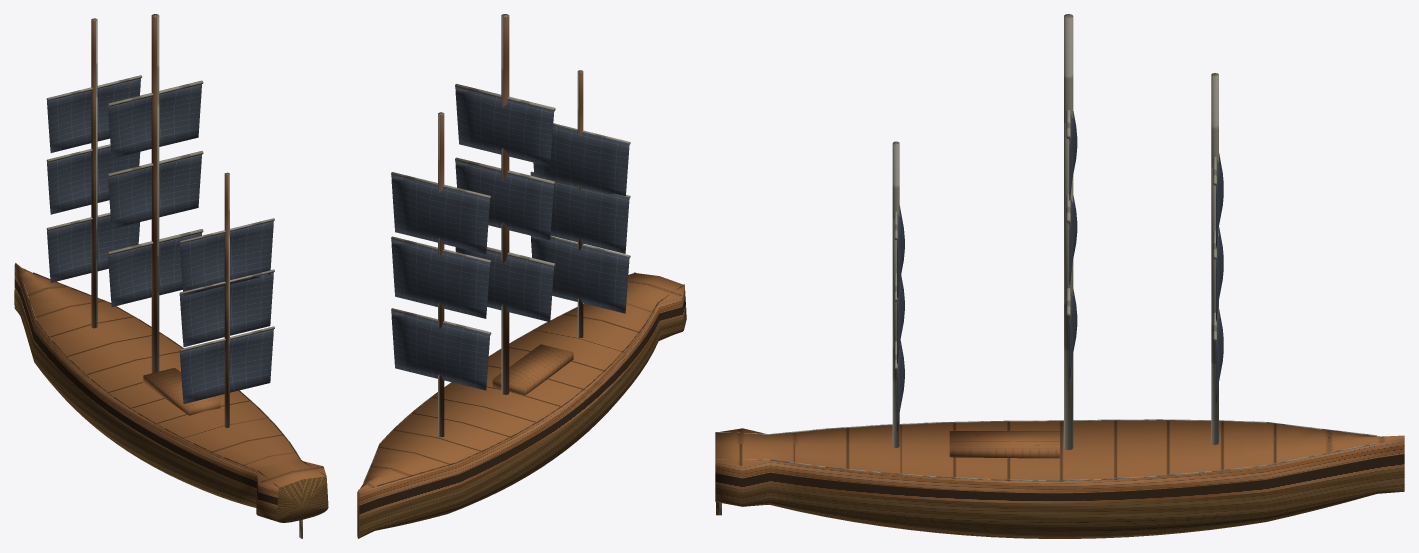
The model's file is SHIP-H_LOD0.fbx.
3 views of the same model, side by side, from view 1: azimuth 30°, elevation 25°; view 2: azimuth 150°, elevation 25°; view 3: azimuth 270°, elevation 25° (orthographic). The views are drawn at different scales.
Parts seen in each view (by area): view 1: Sails, Hull, Masts; view 2: Sails, Hull, Masts; view 3: Hull, Masts, Sails.
Boxes of the visible parts, x1=… form: Sails: x1=47, y1=78, x2=273, y2=403; Hull: x1=14, y1=263, x2=328, y2=522; Masts: x1=20, y1=14, x2=326, y2=538; Sails: x1=391, y1=87, x2=629, y2=390; Hull: x1=357, y1=273, x2=686, y2=538; Masts: x1=363, y1=14, x2=684, y2=486; Hull: x1=715, y1=420, x2=1404, y2=538; Masts: x1=715, y1=14, x2=1377, y2=515; Sails: x1=897, y1=111, x2=1223, y2=432.
Bounding box in the file's own units: 7.2 × 32 × 26.
